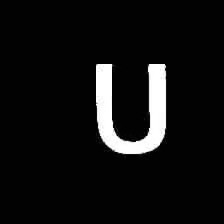LTR_U: (91, 53, 170, 158)
